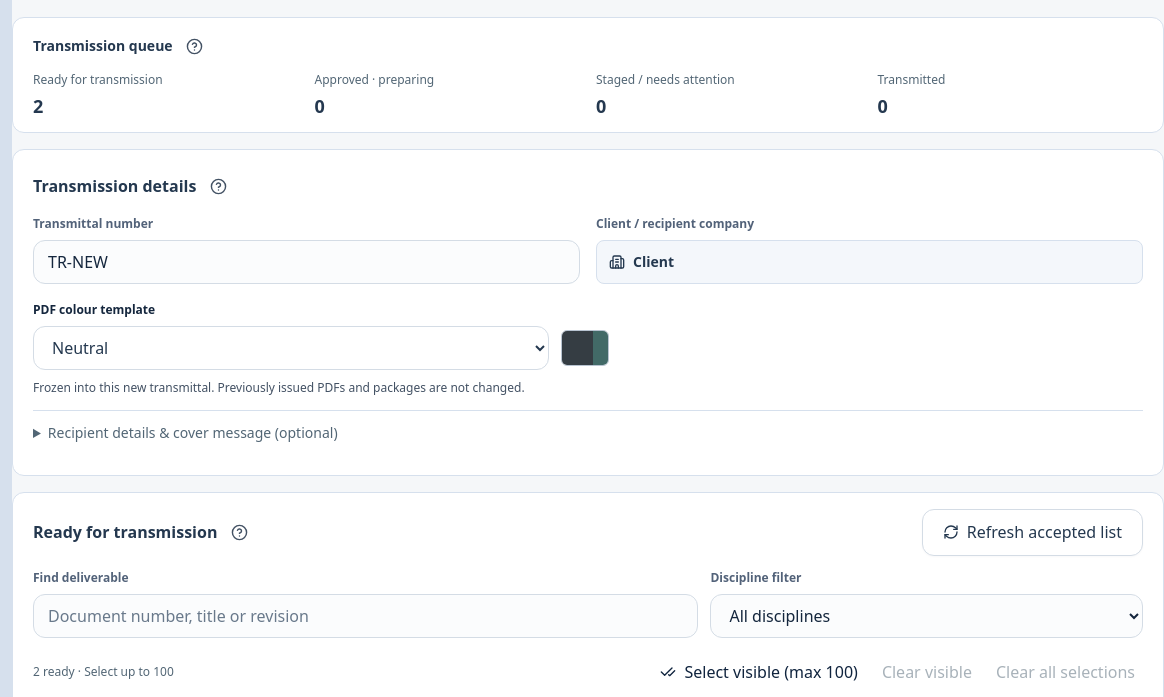
Scenario: distinguishes clearing visible revisions from clearing all selections, including hidden selections
Click the button "Select visible (max 100)" at x=759, y=672, box [652,650,866,694]
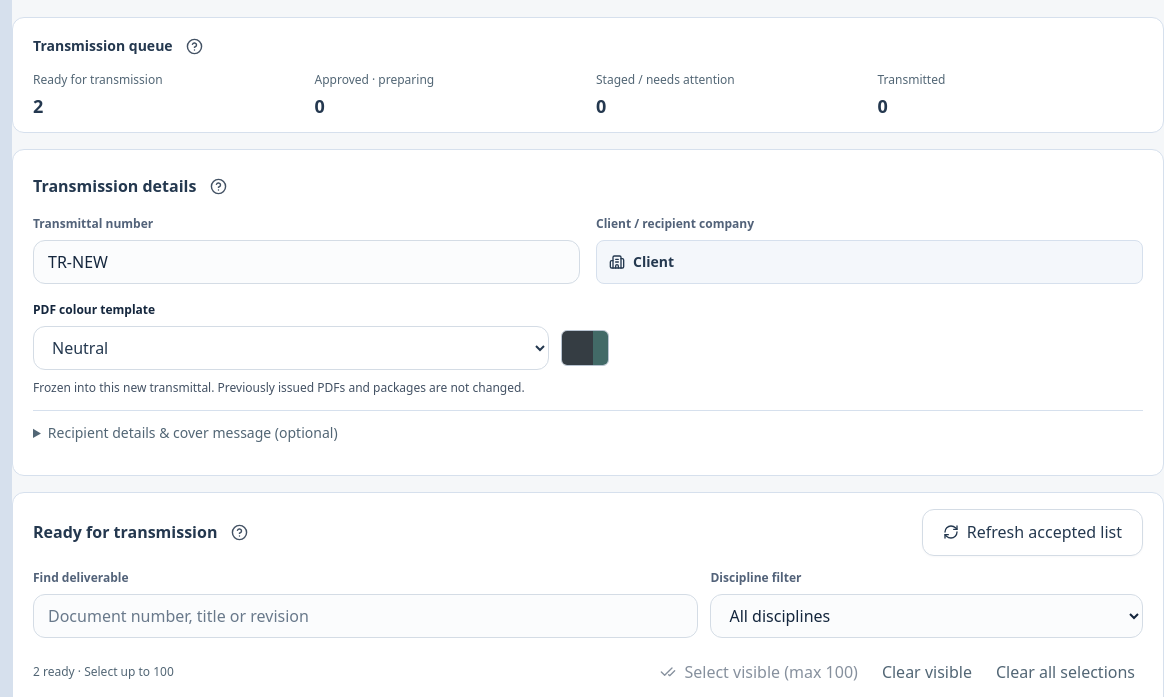
Select "Electrical" in the dropdown labelled "Discipline filter" at x=927, y=616, box [710,594,1143,638]
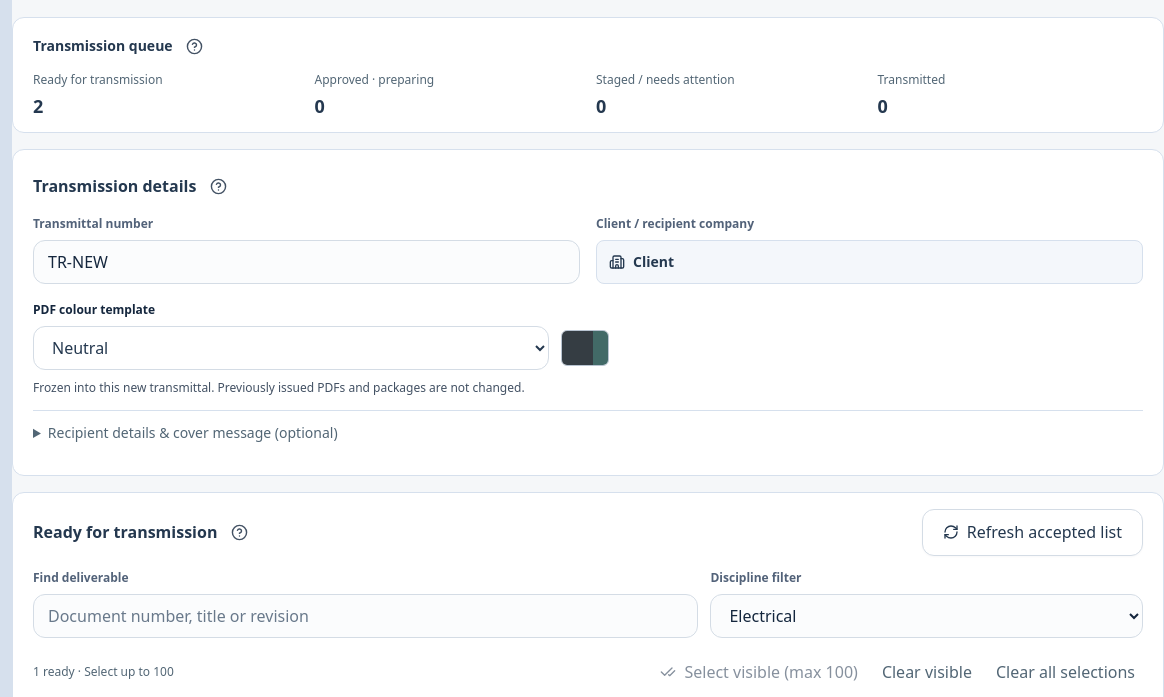
Click the button "Clear visible" at x=927, y=672, box [874,650,980,694]
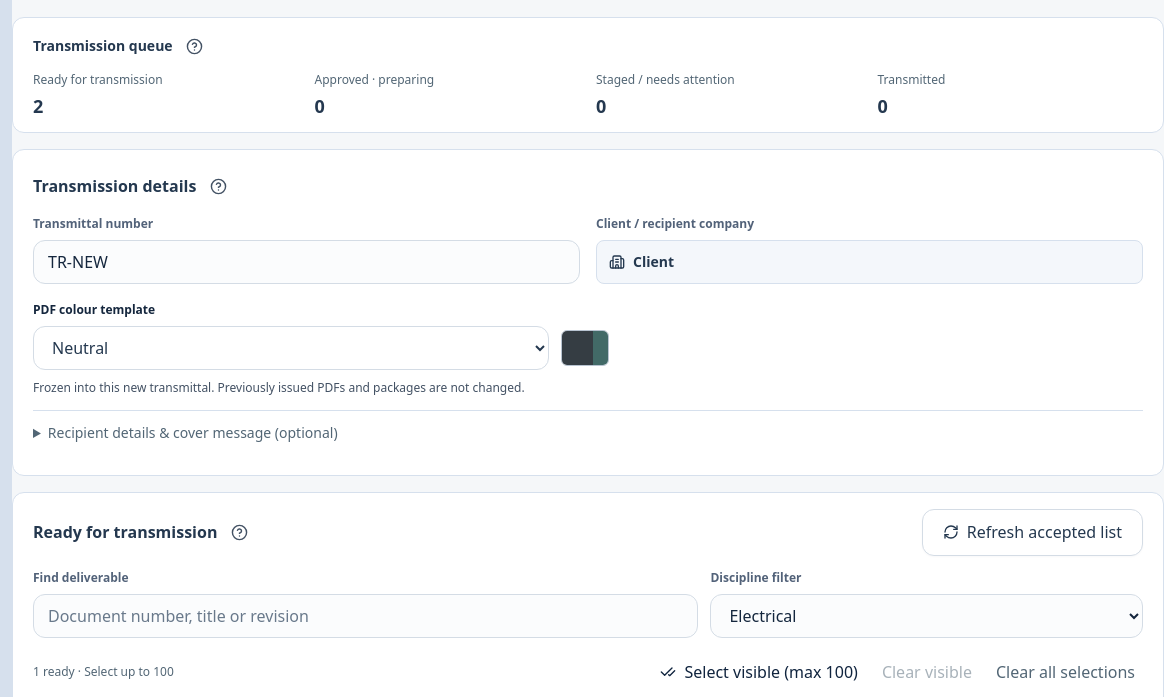
Type "No matching document" into the search field labelled "Find deliverable" at x=366, y=616, box [33,594,698,638]
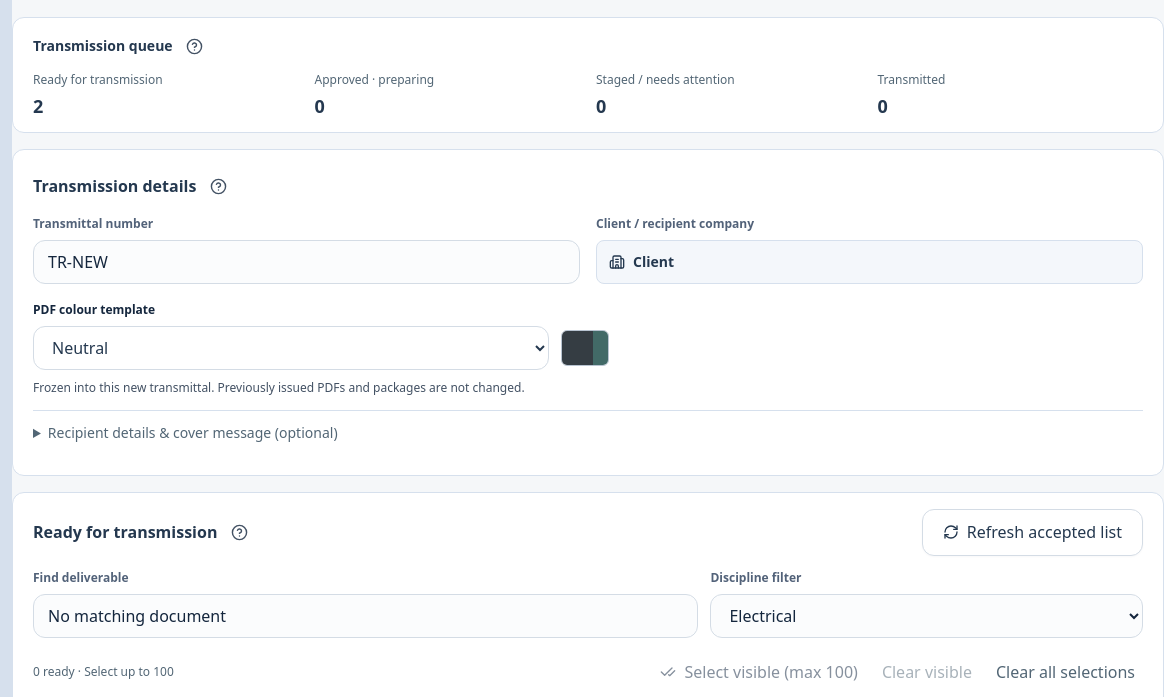
Expected: the button "Clear visible" is disabled, [874,650,980,694]
Expected: the button "Clear all selections" is enabled
Click the button "Clear all selections" at x=1065, y=672, box [988,650,1143,694]
(page scrolled)
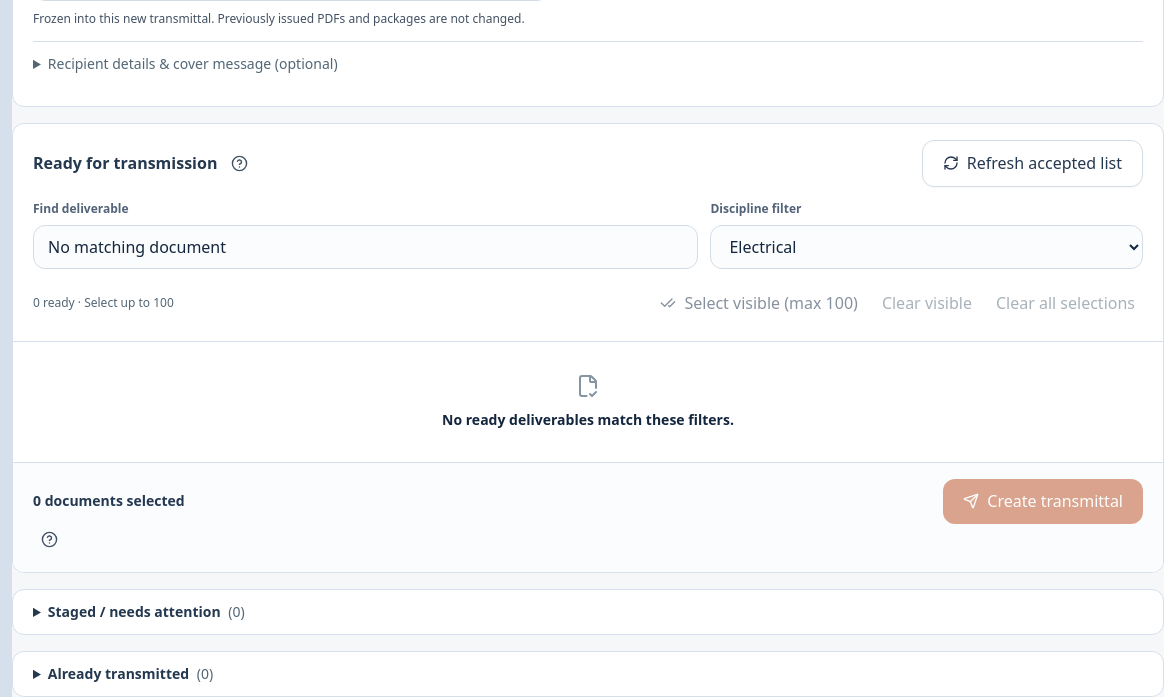
Expected: the button "Clear all selections" is disabled, [988,281,1143,325]
Expected: the button "Create transmittal" is disabled, [943,479,1143,524]
